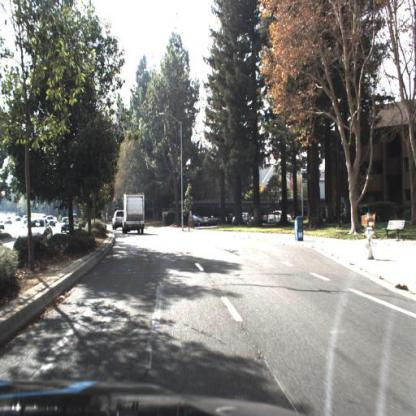car: (24, 219, 55, 247), (61, 214, 80, 238), (111, 206, 127, 232)
truck: (120, 191, 149, 236)
